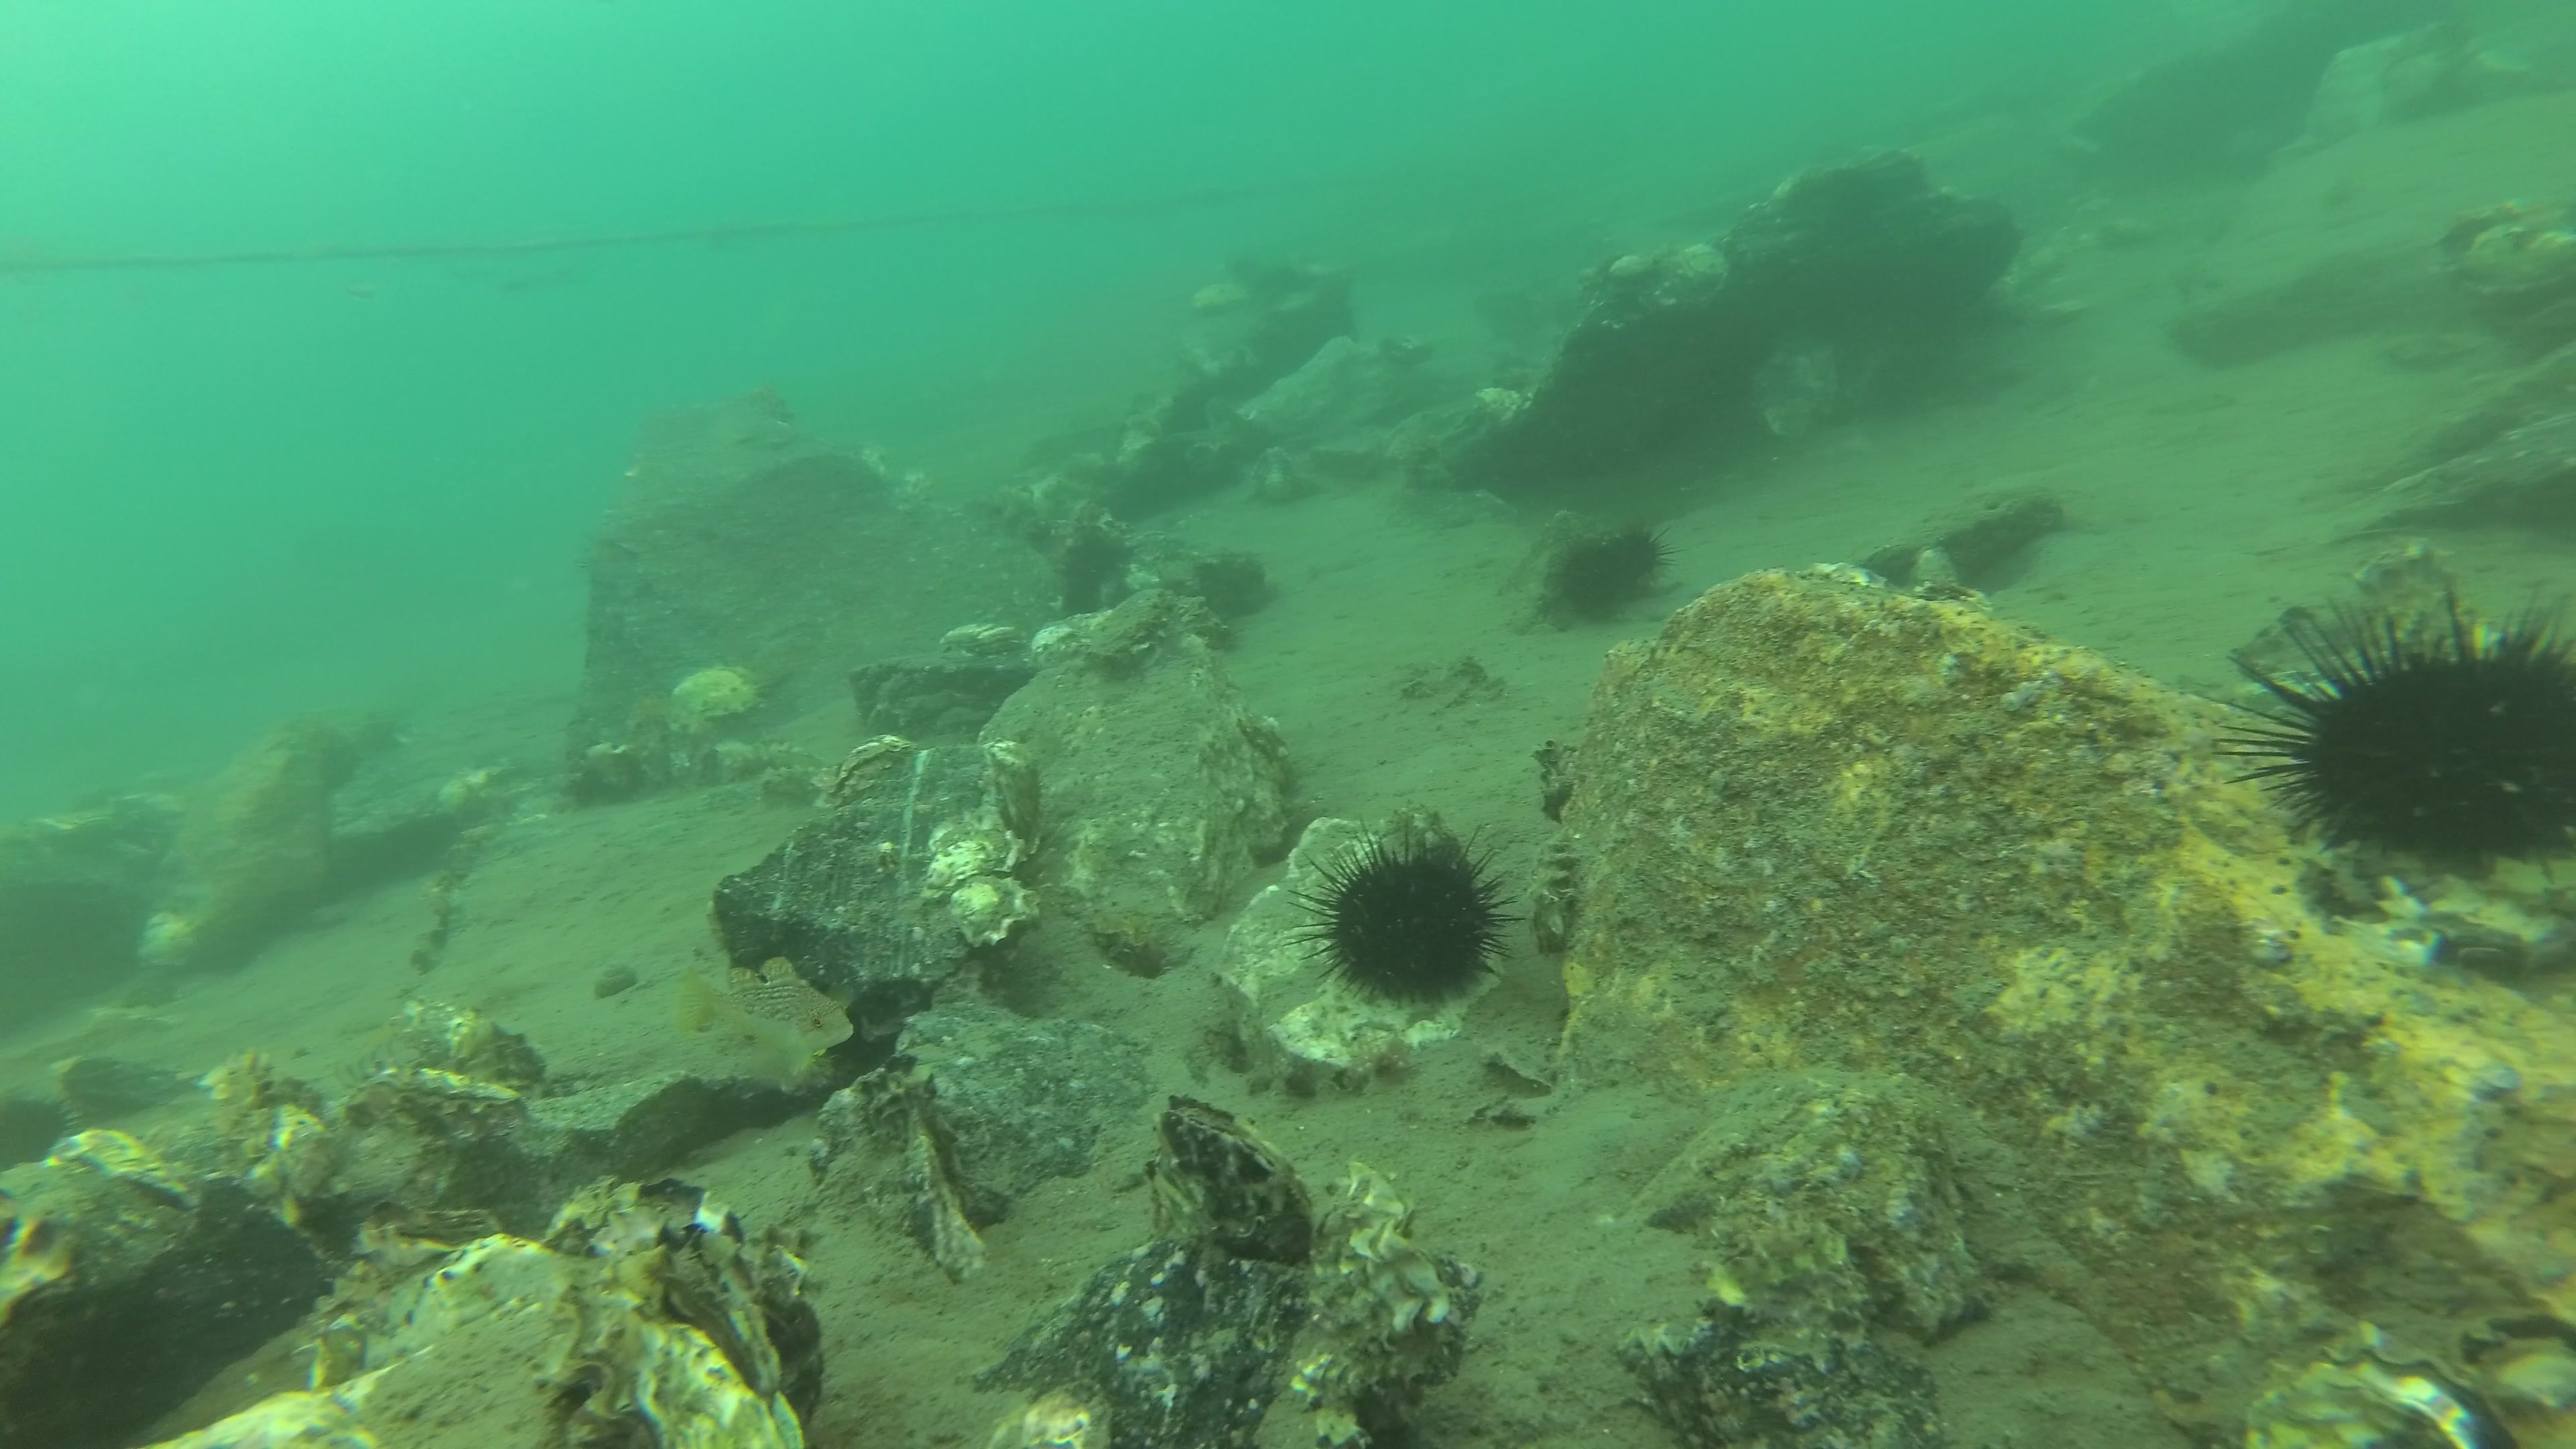echinus: (2210, 579, 2576, 888), (1286, 814, 1529, 1008), (1555, 536, 1629, 625), (0, 1092, 87, 1164), (1608, 524, 1691, 586)
